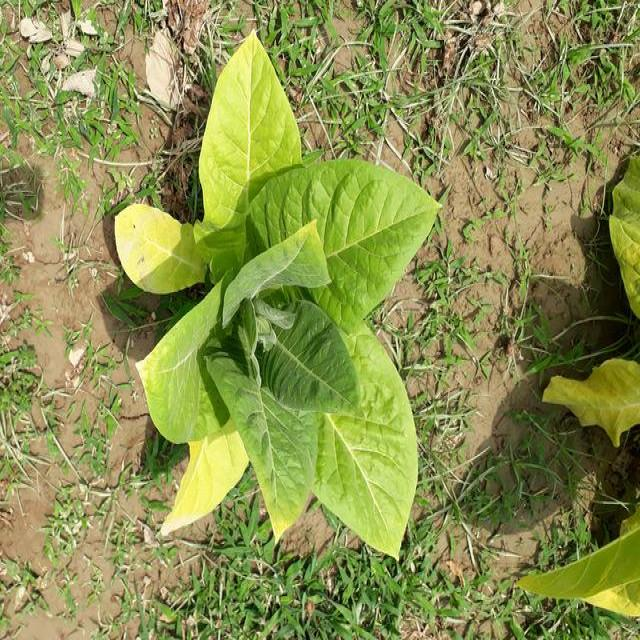crop: (125, 50, 428, 555), (523, 526, 640, 628), (536, 351, 640, 447), (614, 158, 640, 312)
